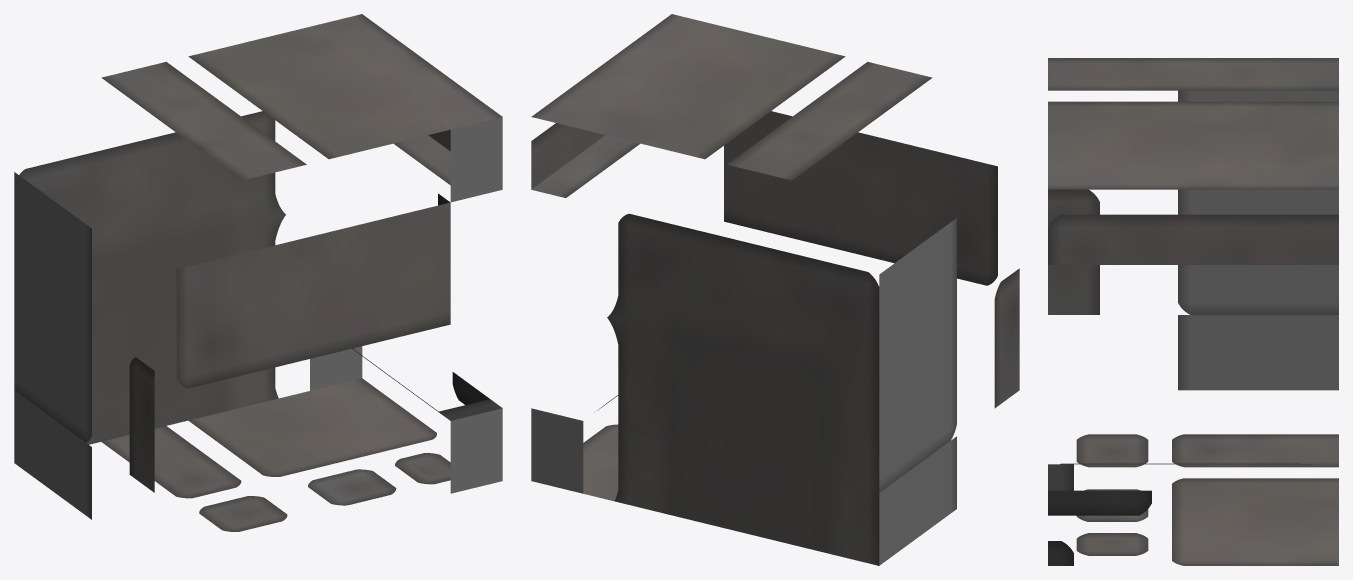
File: lefttop.obj
3 views of the same model, side by side, from view 1: azimuth 30°, elevation 25°; view 2: azimuth 150°, elevation 25°; view 3: azimuth 270°, elevation 25° (orthographic). The views are drawn at different scales.
Parts seen in each view (by area): view 1: lefttop; view 2: lefttop; view 3: lefttop.
Boxes of the visible parts, x1,y1,x2,y2 form: lefttop: (14, 14, 502, 531); lefttop: (531, 14, 1019, 565); lefttop: (1048, 58, 1338, 565).
Size of the model in its own units: 1 by 1 by 0.7.
